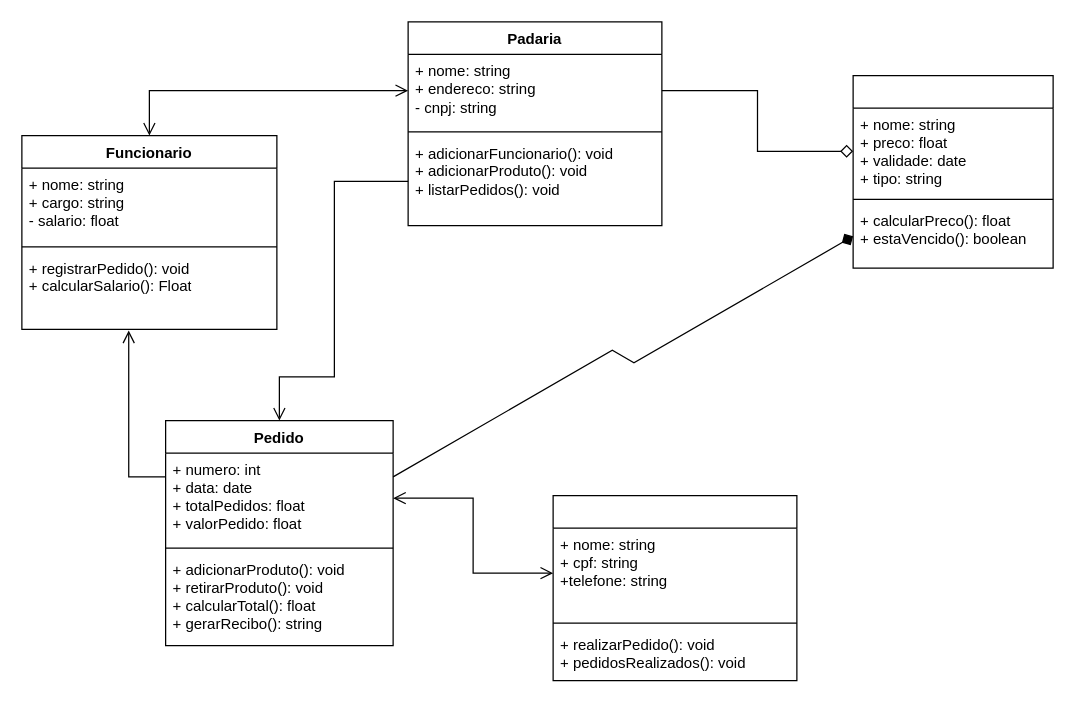
Some shapes in this 1075 by 706 pixel diagram are drawn without their labels. Each missing label, with the box of its shape:
Cliente: (552, 494, 797, 681)
Produtos: (852, 74, 1053, 268)
